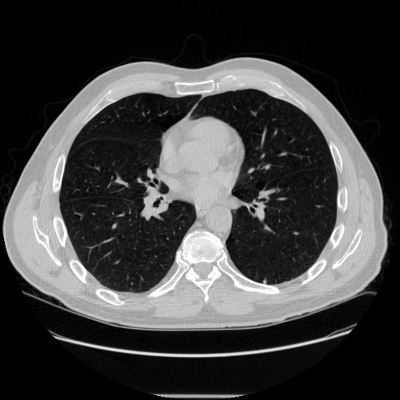nodule: (262, 279, 266, 283)
